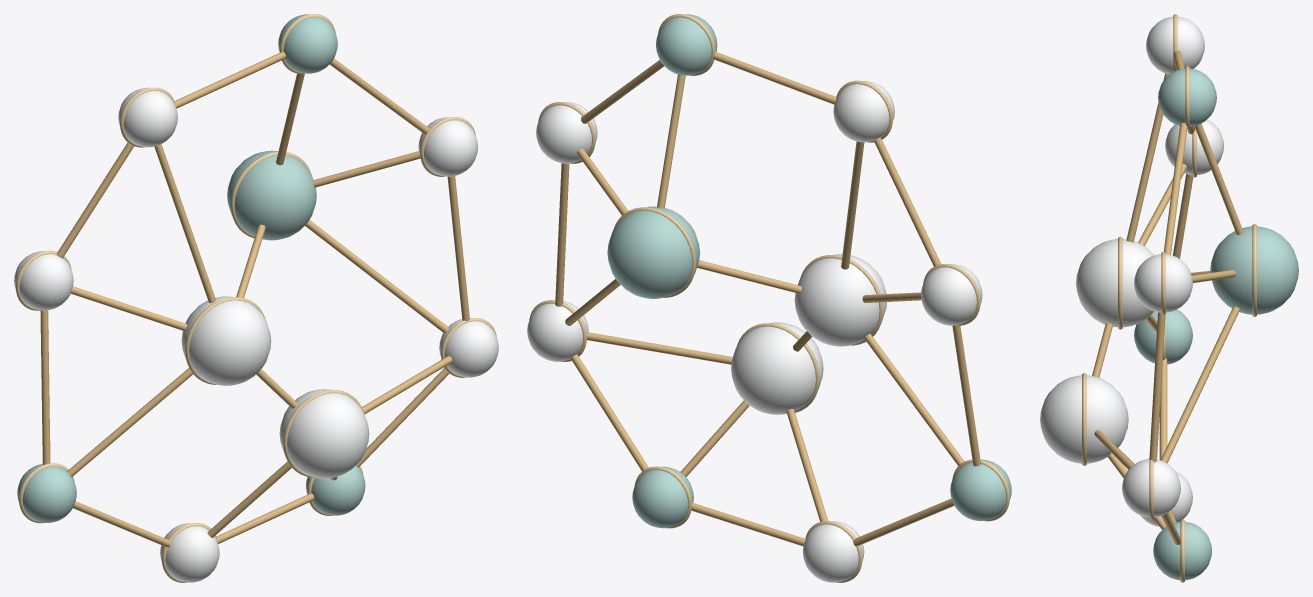
File: network.glb
3 views of the same model, side by side, from view 1: azimuth 30°, elevation 25°; view 2: azimuth 150°, elevation 25°; view 3: azimuth 270°, elevation 25° (orthographic). The views are drawn at different scales.
Parts seen in each view (by area): view 1: network_Sanctuary_Porcelain, network_Sanctuary_ChampagneBrass, network_Sanctuary_SeaGlass, network_Sanctuary_PolishedGold; view 2: network_Sanctuary_Porcelain, network_Sanctuary_ChampagneBrass, network_Sanctuary_SeaGlass, network_Sanctuary_PolishedGold; view 3: network_Sanctuary_Porcelain, network_Sanctuary_SeaGlass, network_Sanctuary_ChampagneBrass, network_Sanctuary_PolishedGold.
Boxes of the visible parts, box(x1,y1,x2,y2) form: network_Sanctuary_Porcelain: box(14, 87, 498, 582); network_Sanctuary_ChampagneBrass: box(40, 52, 469, 547); network_Sanctuary_SeaGlass: box(17, 14, 365, 522); network_Sanctuary_PolishedGold: box(16, 14, 496, 582); network_Sanctuary_Porcelain: box(527, 81, 982, 582); network_Sanctuary_ChampagneBrass: box(555, 52, 980, 546); network_Sanctuary_SeaGlass: box(607, 14, 1011, 528); network_Sanctuary_PolishedGold: box(529, 14, 1009, 582); network_Sanctuary_Porcelain: box(1040, 16, 1223, 526); network_Sanctuary_SeaGlass: box(1134, 68, 1298, 580); network_Sanctuary_ChampagneBrass: box(1092, 50, 1243, 544); network_Sanctuary_PolishedGold: box(1082, 14, 1256, 582).
Size of the model in its own units: 2.25 by 2.4 by 1.08.
